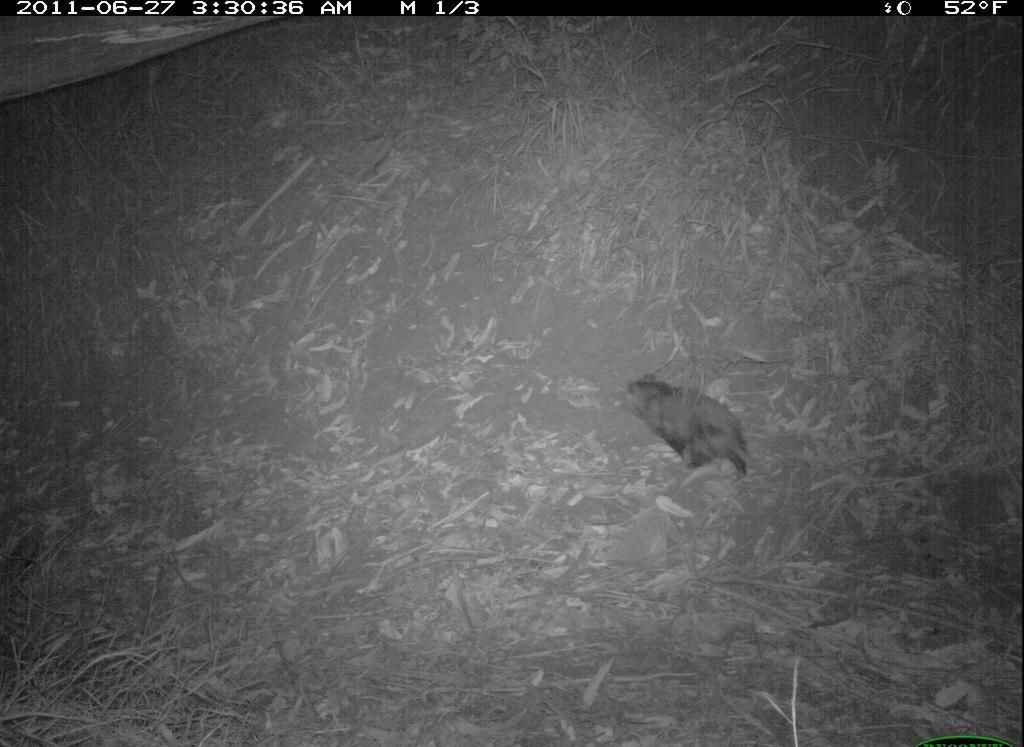opossum: (602, 370, 772, 495)
